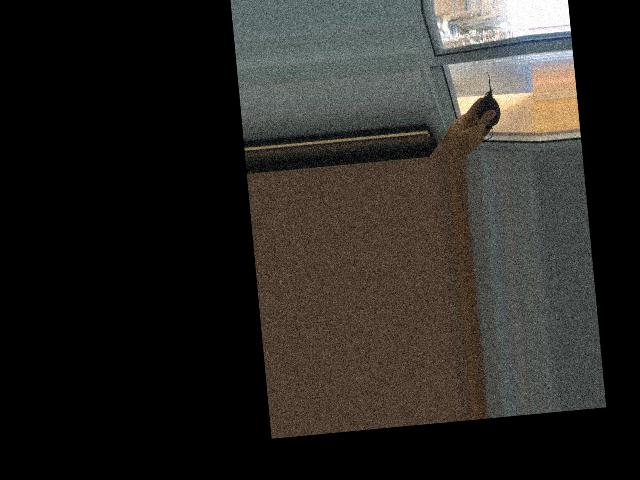beet: (467, 70, 502, 141)
